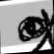not correct: (14, 5, 54, 53)
